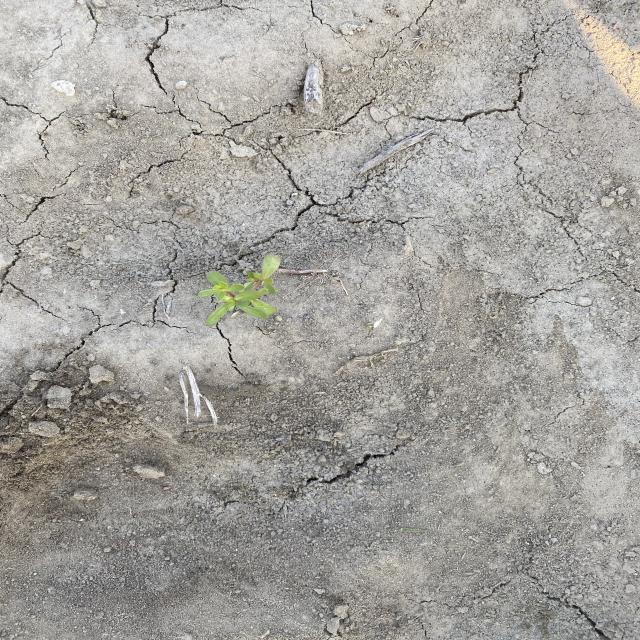Purslane: (195, 251, 285, 328)
